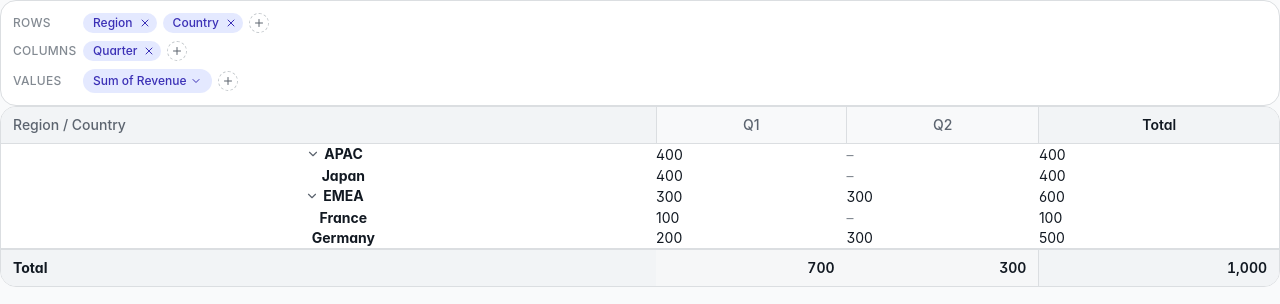
it: PivotTable › removes a row field from the config bar
What coordinates should you click on to do the following:
click the button named "Remove Country from rows"
I would click on:
 (231, 23)
Its box is left=223, top=15, right=239, bottom=31.
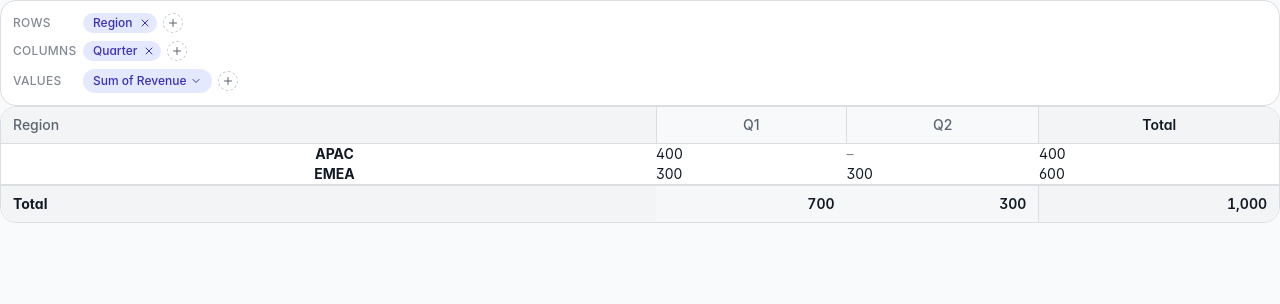
Check: the text "1,000" is shown, box left=1039, top=185, right=1279, bottom=222
Check: the column heading "France" is gone
